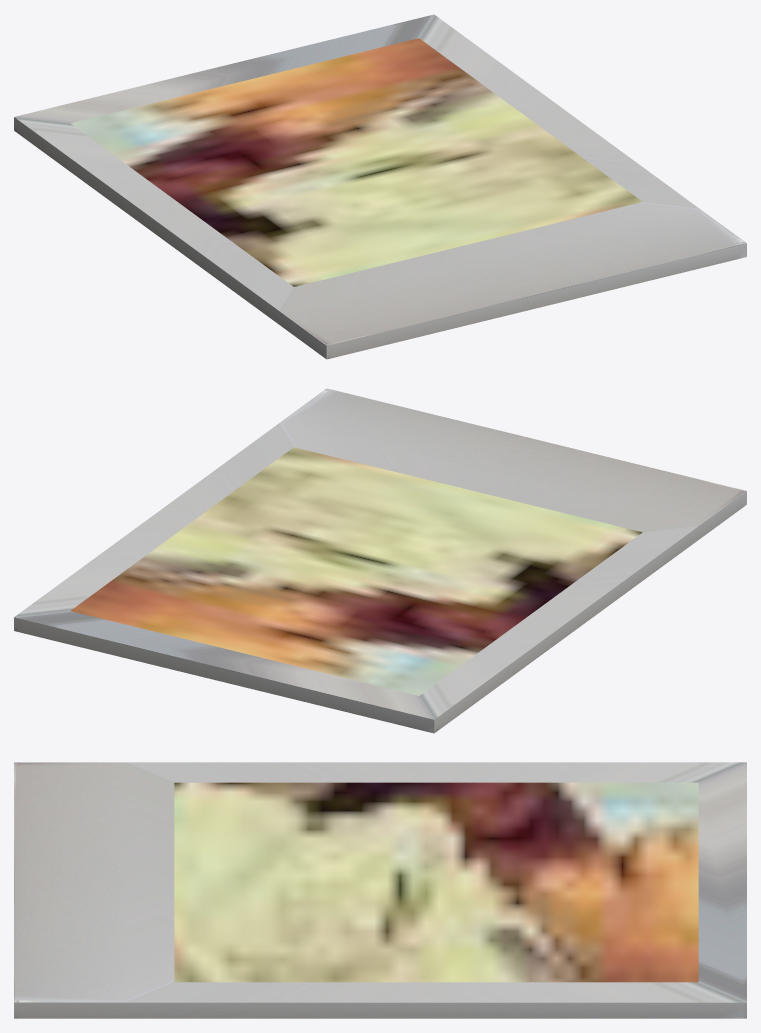
File: photo3.FBX
3 views of the same model, one above another, from view 1: azimuth 30°, elevation 25°; view 2: azimuth 150°, elevation 25°; view 3: azimuth 270°, elevation 25° (orthographic). The views are drawn at different scales.
Visible parts, largest first — view 1: Object001, Box001; view 2: Object001, Box001; view 3: Object001, Box001.
Boxes of the visible parts, x1=… form: Object001: x1=70, y1=38, x2=642, y2=286; Box001: x1=14, y1=14, x2=746, y2=359; Object001: x1=70, y1=447, x2=642, y2=695; Box001: x1=14, y1=388, x2=746, y2=733; Object001: x1=174, y1=782, x2=698, y2=982; Box001: x1=14, y1=762, x2=746, y2=1018.
Bounding box in the file's own units: 32.55 × 1.01 × 41.95.
Materials: 2 (2 with a texture image).
